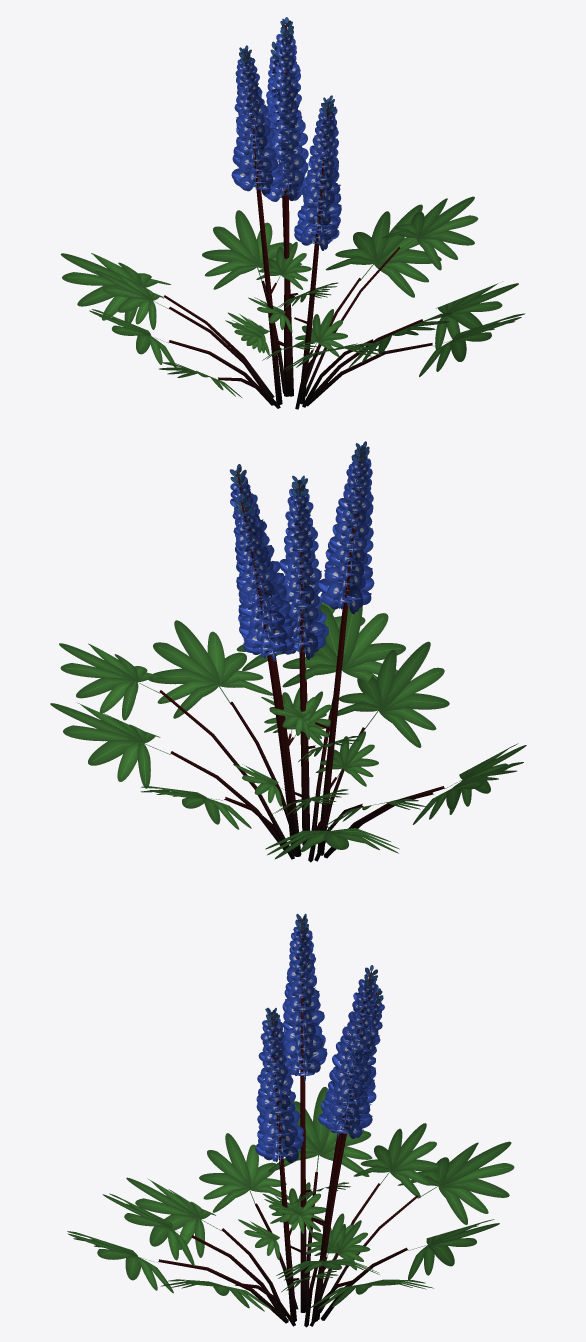
The model's file is lupine_v01.glb.
The picture shows the model from 3 angles, top to bottom: view 1: azimuth 30°, elevation 25°; view 2: azimuth 150°, elevation 25°; view 3: azimuth 270°, elevation 25°; orthographic projection. The views are drawn at different scales.
Parts seen in each view (by area): view 1: lupine_v01; view 2: lupine_v01; view 3: lupine_v01.
Boxes of the visible parts, x1,y1,x2,y2 form: lupine_v01: (60, 17, 525, 409); lupine_v01: (50, 441, 526, 862); lupine_v01: (67, 913, 514, 1327).
Size of the model in its own units: 0.8048 by 0.6559 by 0.864.
Materials: 3 (3 with a texture image).
